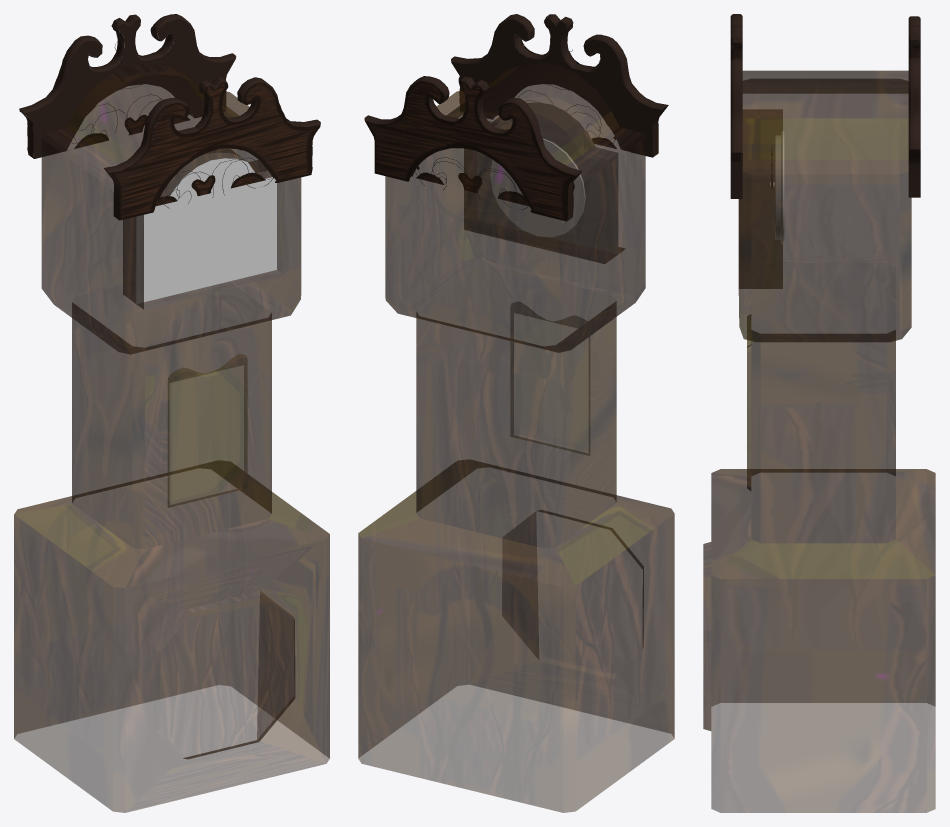
The model's file is Kellokaappi2 1.fbx.
3 renders of one model, left to right at view 1: azimuth 30°, elevation 25°; view 2: azimuth 150°, elevation 25°; view 3: azimuth 270°, elevation 25°, orthographic. The views are drawn at different scales.
Parts seen in each view (by area): view 1: kaappikellon_rakenne, kaappikellon_lasi, Yläkoriste_Back, Yläkoriste_Back.001; view 2: kaappikellon_rakenne, Yläkoriste_Back.001, Yläkoriste_Back, kaappikellon_lasi, kellon_taulu; view 3: kaappikellon_rakenne, Yläkoriste_Back, Yläkoriste_Back.001, kellon_taulu.
Boxes of the visible parts, x1,y1,x2,y2 form: kaappikellon_rakenne: [14, 63, 329, 812]; kaappikellon_lasi: [136, 153, 276, 303]; Yläkoriste_Back: [104, 77, 320, 220]; Yläkoriste_Back.001: [19, 14, 236, 158]; kaappikellon_rakenne: [358, 63, 674, 812]; Yläkoriste_Back.001: [364, 76, 581, 221]; Yläkoriste_Back: [451, 14, 668, 157]; kaappikellon_lasi: [477, 103, 617, 253]; kellon_taulu: [490, 138, 585, 237]; kaappikellon_rakenne: [703, 70, 935, 812]; Yläkoriste_Back: [730, 14, 742, 198]; Yläkoriste_Back.001: [908, 16, 920, 197]; kellon_taulu: [770, 131, 784, 243].
Size of the model in its own units: 6.17 by 2 by 1.79.
